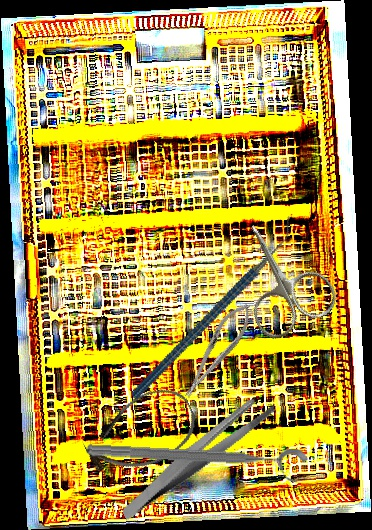Cannula: (74, 377, 207, 489)
Chopper: (91, 214, 333, 401)
Dressing Forceps: (101, 391, 293, 522)
Fixation Ring: (85, 438, 309, 485)
Iris Scissors: (214, 204, 344, 346)
Needle Holder: (175, 297, 259, 404)
